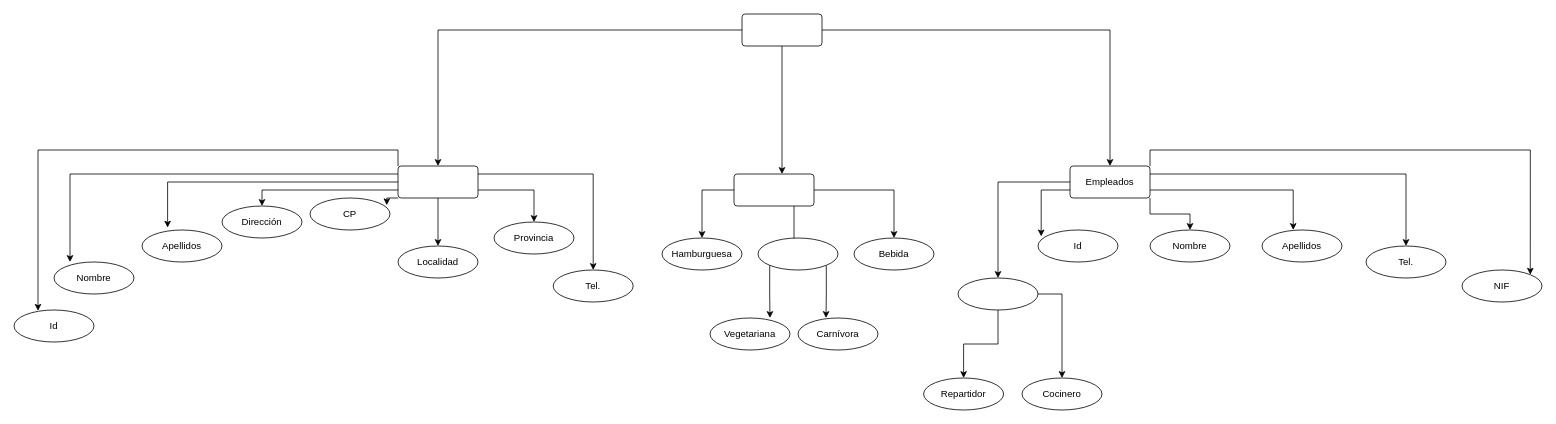
The diagram is 1556 pixels wide and 424 high, and some of its shapes have lost their labels. Here are the shapes that lost their labels. From the top down, the centre of each, then its label:
At point (781, 29): "Tienda".
At point (437, 181): "Clientes".
At point (773, 189): "Productos".
At point (797, 253): "Pizza".
At point (997, 293): "Tipo".
